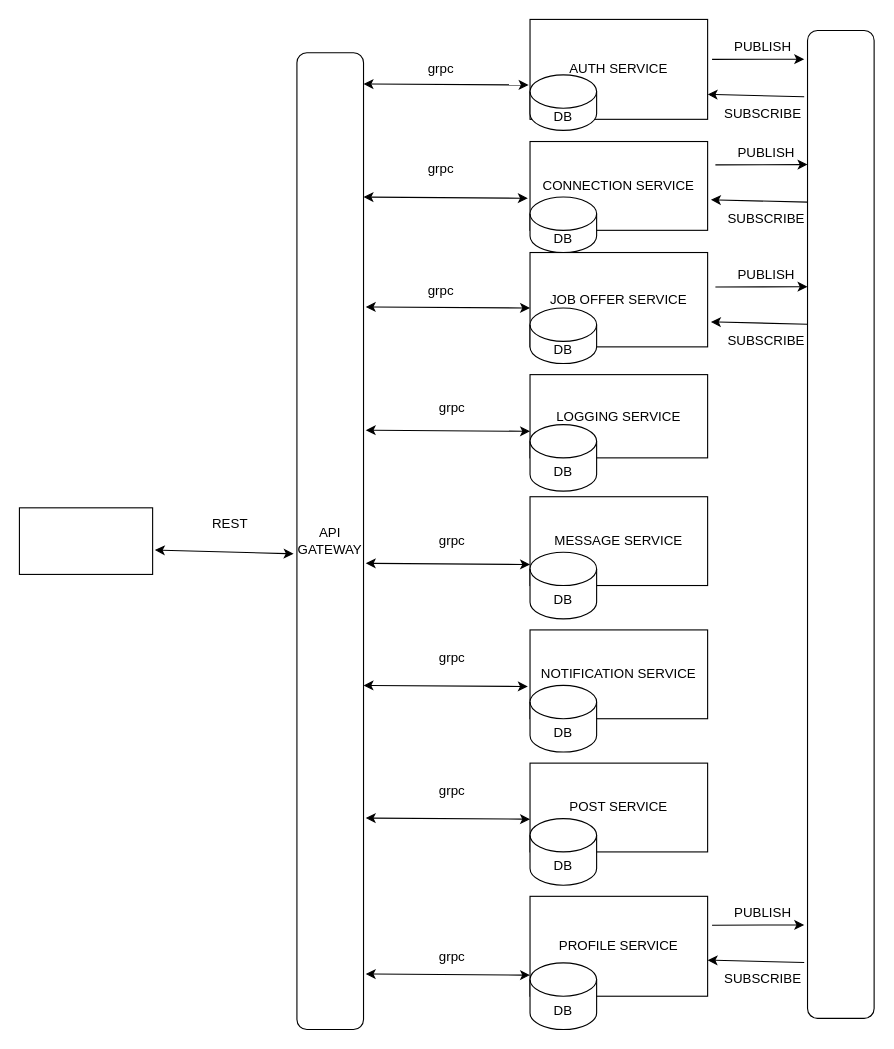
This 894x1049 diagram has some shape labels left out. Here are the shapes that lost their labels. From the top down, the centre of each, then its label:
At (85,540): "frontendApp".
At (840,523): "MESSAGE BROKER".
